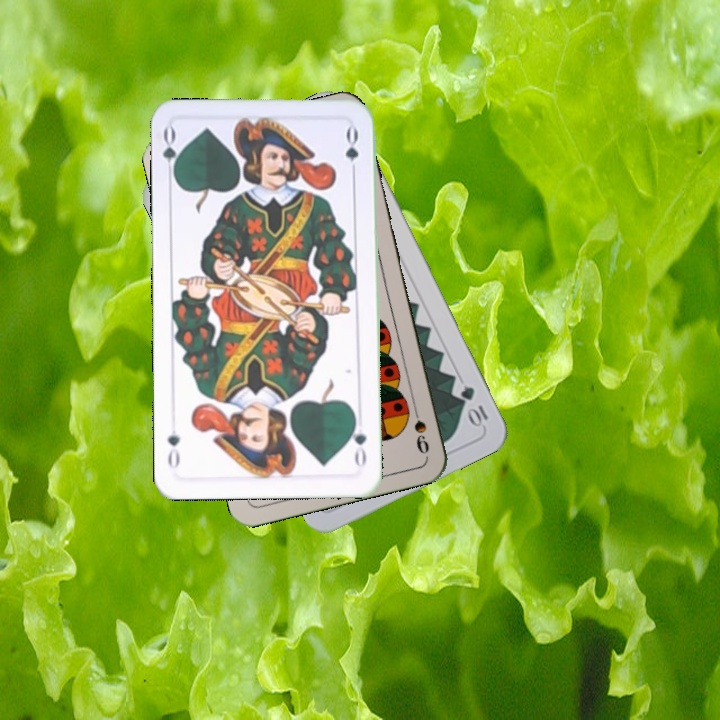G10: (456, 382, 491, 430)
GO: (158, 124, 184, 183), (346, 412, 369, 469)
S9: (408, 399, 432, 457)
